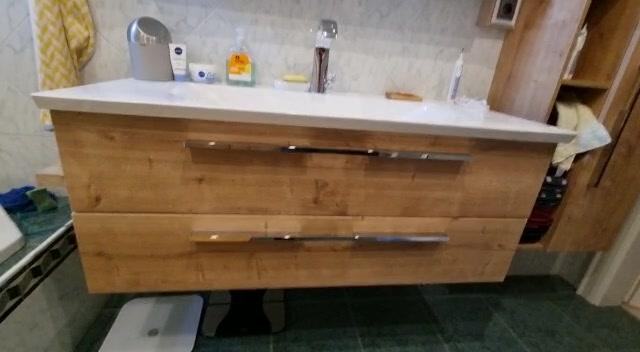cabinet_door: (68, 127, 542, 215), (80, 215, 515, 282)
handle: (173, 133, 476, 172), (184, 228, 458, 255)
